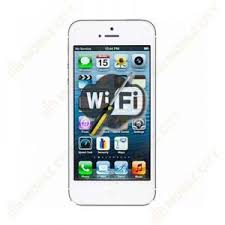iphone: (65, 15, 158, 206)
iphone5: (65, 16, 158, 207)
